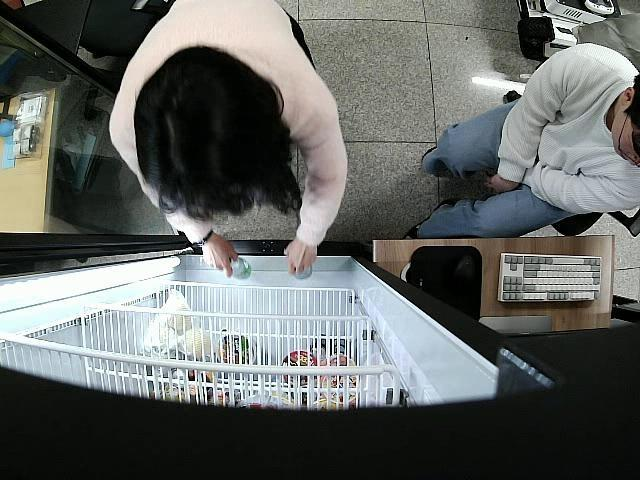18_trevi: (228, 256, 251, 282), (292, 261, 314, 280)
